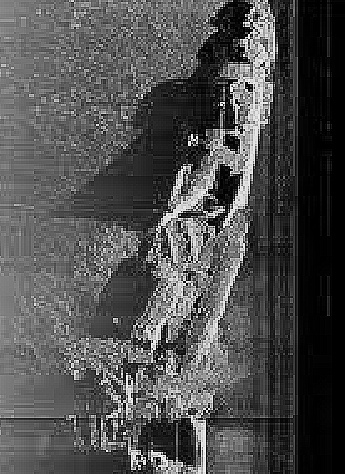ship: (95, 1, 280, 474)
